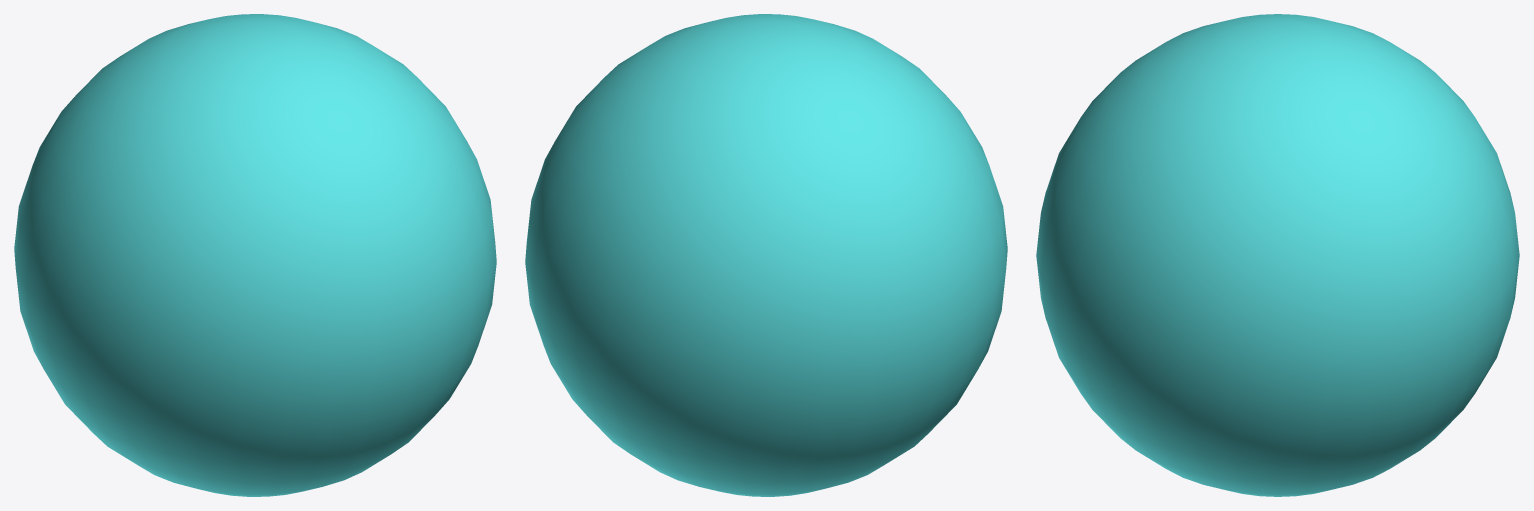
Rendered from M_cat_slime.FBX.
3 views of the same model, side by side, from view 1: azimuth 30°, elevation 25°; view 2: azimuth 150°, elevation 25°; view 3: azimuth 270°, elevation 25° (orthographic).
Visible parts, largest first — view 1: catglass001; view 2: catglass001; view 3: catglass001.
Part boxes in pixels (box(x1,y1,x2,y2)): catglass001: box(14, 14, 496, 496); catglass001: box(525, 14, 1007, 496); catglass001: box(1036, 14, 1519, 496).
Bounding box in the file's own units: 60.65 × 60.65 × 60.65.
